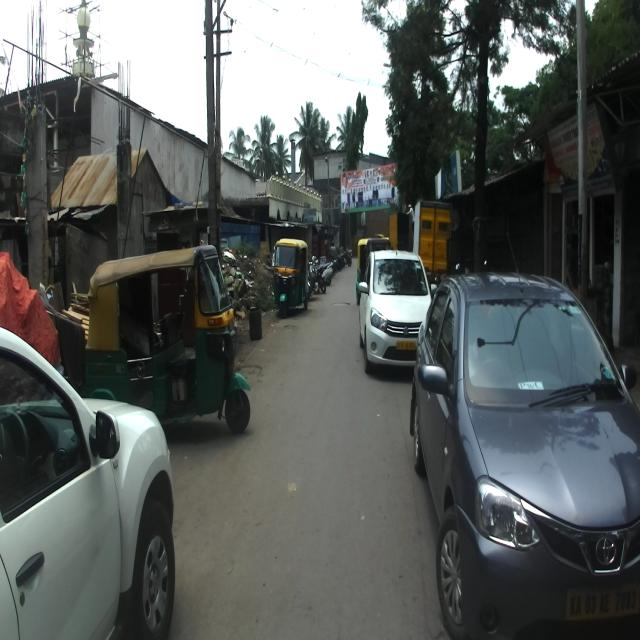auto ahead at: (93, 248, 250, 426), (271, 240, 313, 316)
car ahead at: (413, 275, 640, 640), (1, 326, 180, 640), (360, 246, 426, 366)
